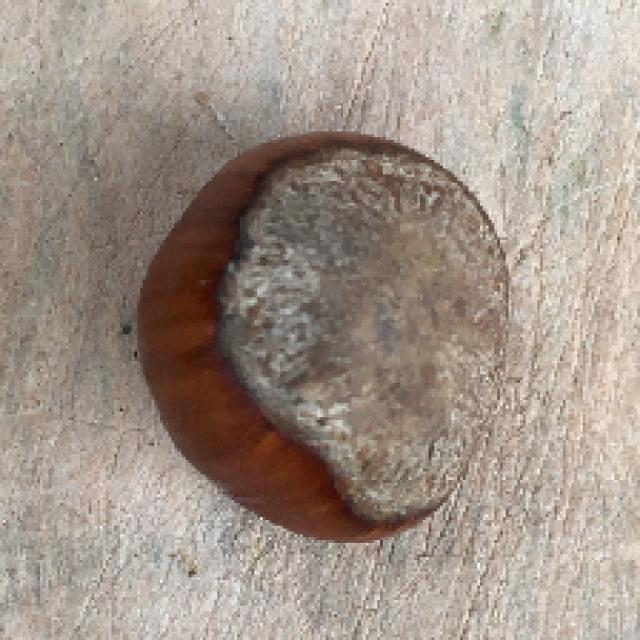qualityHazelnut: (137, 129, 512, 544)
